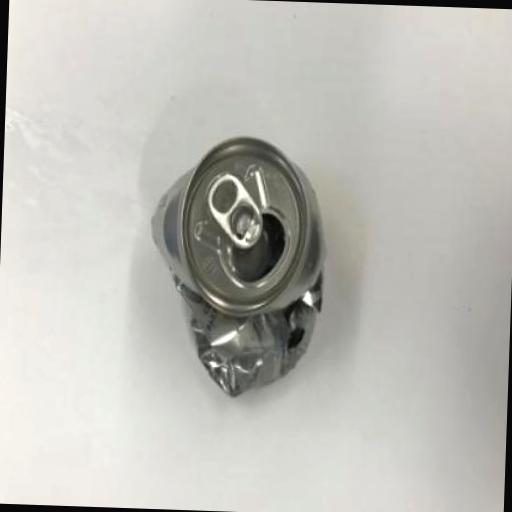metal: (144, 131, 329, 400)
